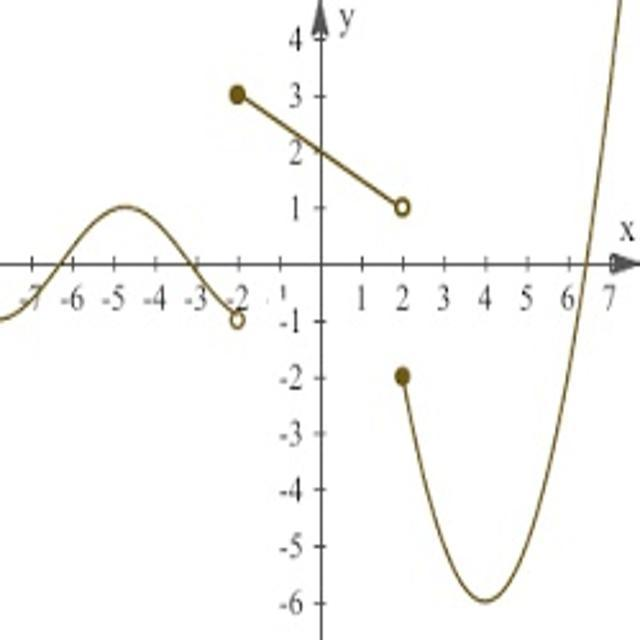axis: (0, 255, 640, 271), (314, 0, 328, 640)
line: (230, 84, 411, 219)
